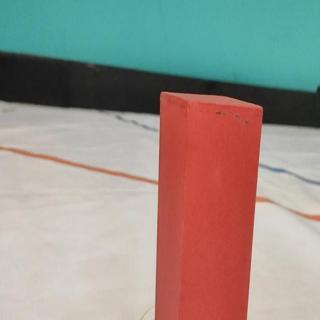redbox: (160, 93, 253, 320)
